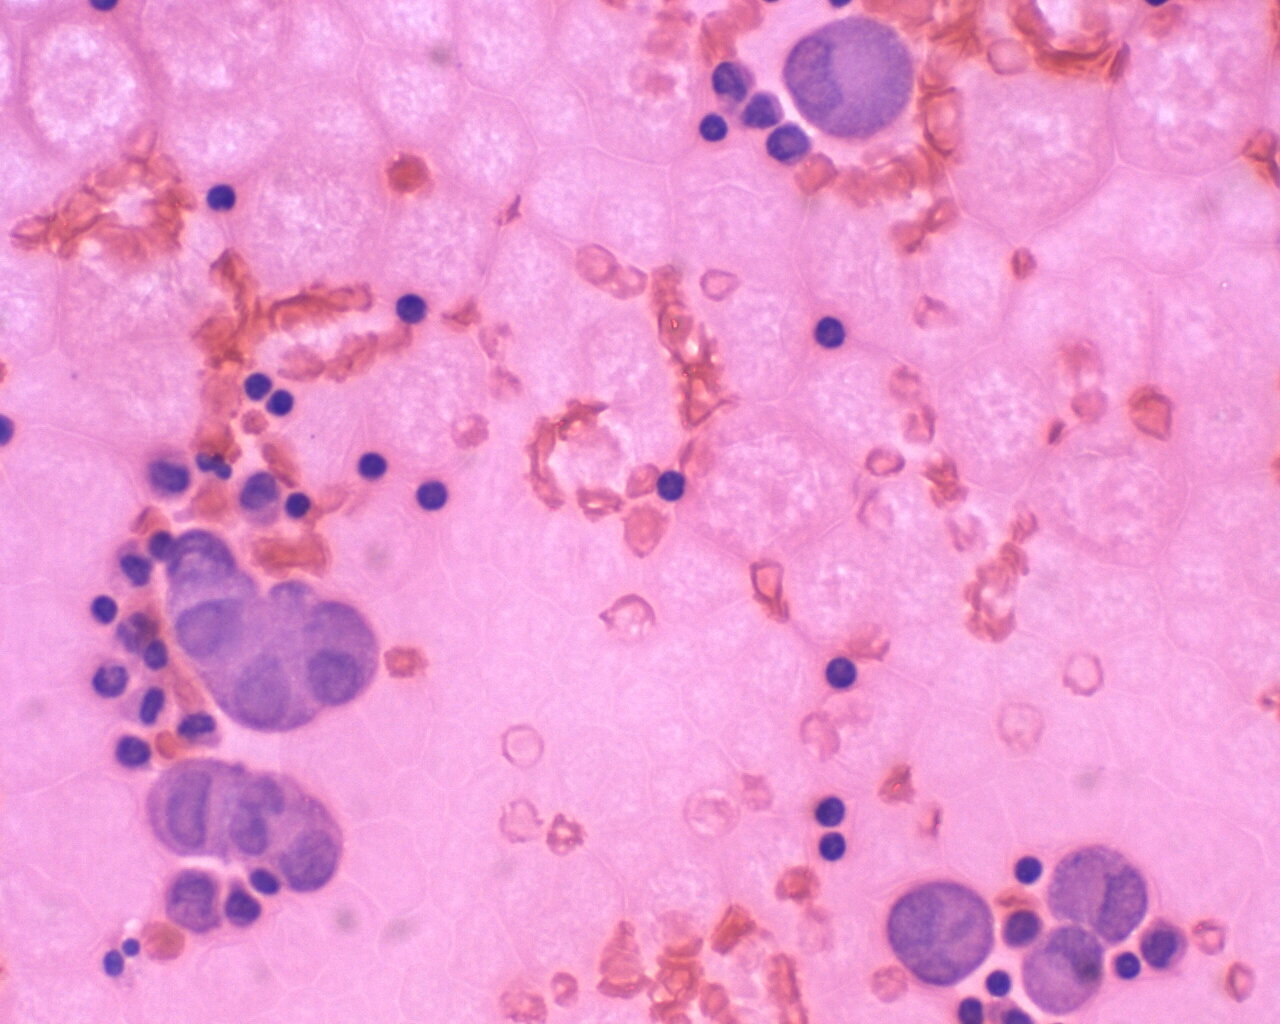ab: (886, 877, 1000, 994), (287, 589, 385, 709), (1046, 835, 1153, 937), (142, 753, 231, 866), (223, 643, 321, 738)
histo: (784, 8, 924, 144)
lymph: (197, 172, 245, 223), (408, 471, 452, 515), (349, 443, 393, 488), (390, 288, 434, 332), (827, 649, 867, 694), (812, 309, 853, 353), (653, 461, 693, 503), (236, 368, 279, 406), (694, 109, 734, 149), (1011, 848, 1051, 889), (807, 794, 848, 827)
